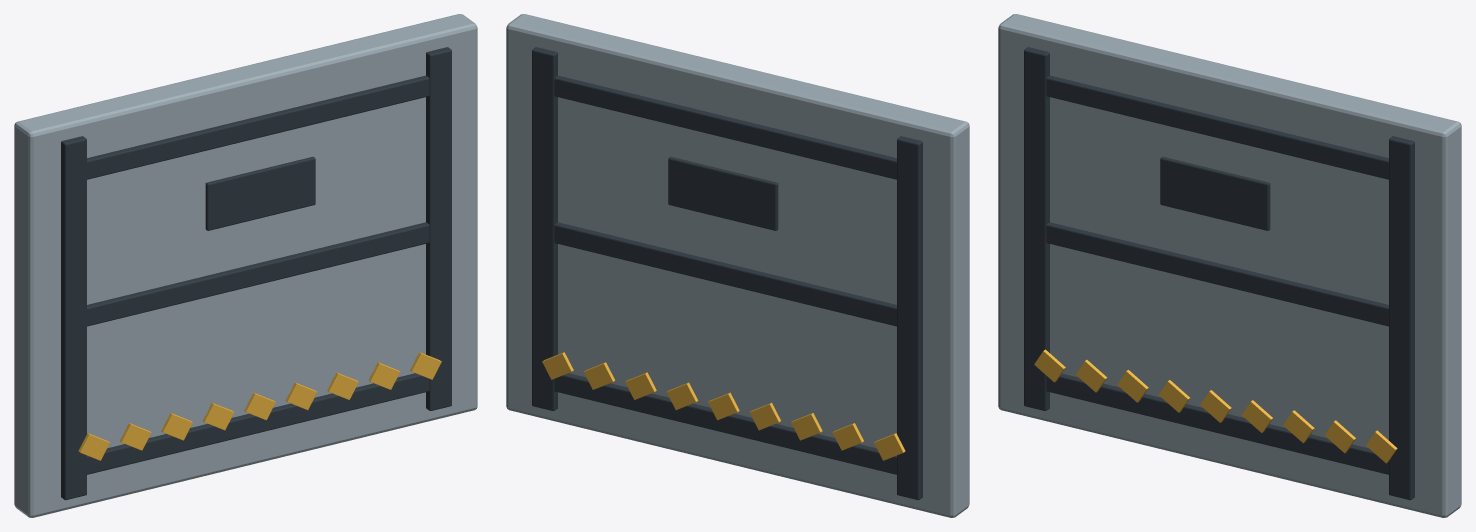
Rendered from industrial-gate.glb.
3 views of the same model, side by side, from view 1: azimuth 30°, elevation 25°; view 2: azimuth 150°, elevation 25°; view 3: azimuth 330°, elevation 25° (orthographic).
Parts seen in each view (by area): view 1: Industrial gate, Rail, Rail.001, Cross member.001, Cross member.002, Cross member, Status plate, Warning stripe.003, Warning stripe.001, Warning stripe.005, Warning stripe.007, Warning stripe.008 (+4 smaller); view 2: Industrial gate, Rail.002, Rail.003, Cross member.004, Cross member.005, Cross member.003, Status plate.001, Warning stripe.012, Warning stripe.010, Warning stripe.014, Warning stripe.016, Warning stripe.017 (+4 smaller); view 3: Industrial gate, Rail.001, Rail, Cross member.001, Cross member.002, Cross member, Status plate, Warning stripe.007, Warning stripe.001, Warning stripe.002, Warning stripe.004, Warning stripe.003 (+4 smaller).
Part boxes in pixels (box(x1,y1,x2,y2)): Industrial gate: box(14, 14, 477, 517); Rail: box(61, 136, 86, 500); Rail.001: box(426, 47, 451, 410); Cross member.001: box(87, 222, 429, 326); Cross member.002: box(87, 75, 429, 179); Cross member: box(87, 373, 429, 474); Status plate: box(205, 156, 315, 230); Warning stripe.003: box(203, 402, 234, 430); Warning stripe.001: box(120, 423, 151, 450); Warning stripe.005: box(285, 382, 317, 410); Warning stripe.007: box(368, 362, 399, 389); Warning stripe.008: box(410, 352, 441, 379); Industrial gate: box(506, 14, 969, 517); Rail.002: box(897, 136, 922, 500); Rail.003: box(532, 47, 557, 410); Cross member.004: box(554, 222, 896, 326); Cross member.005: box(554, 75, 896, 179); Cross member.003: box(554, 373, 896, 474); Status plate.001: box(668, 156, 778, 230); Warning stripe.012: box(749, 402, 780, 430); Warning stripe.010: box(832, 423, 863, 450); Warning stripe.014: box(666, 382, 698, 410); Warning stripe.016: box(584, 362, 615, 389); Warning stripe.017: box(542, 352, 573, 379); Industrial gate: box(998, 14, 1461, 517); Rail.001: box(1389, 136, 1414, 500); Rail: box(1024, 47, 1049, 410); Cross member.001: box(1046, 222, 1388, 326); Cross member.002: box(1046, 75, 1388, 179); Cross member: box(1046, 373, 1388, 474); Status plate: box(1160, 156, 1270, 230); Warning stripe.007: box(1324, 420, 1355, 453); Warning stripe.001: box(1075, 360, 1107, 392); Warning stripe.002: box(1117, 369, 1148, 402); Warning stripe.004: box(1200, 390, 1231, 422); Warning stripe.003: box(1158, 380, 1189, 412).
Size of the model in its own units: 2.98 by 2.45 by 0.366.
